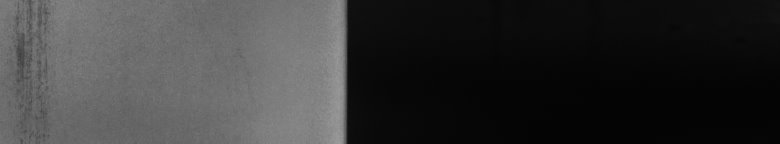ka: (7, 4, 53, 136)
